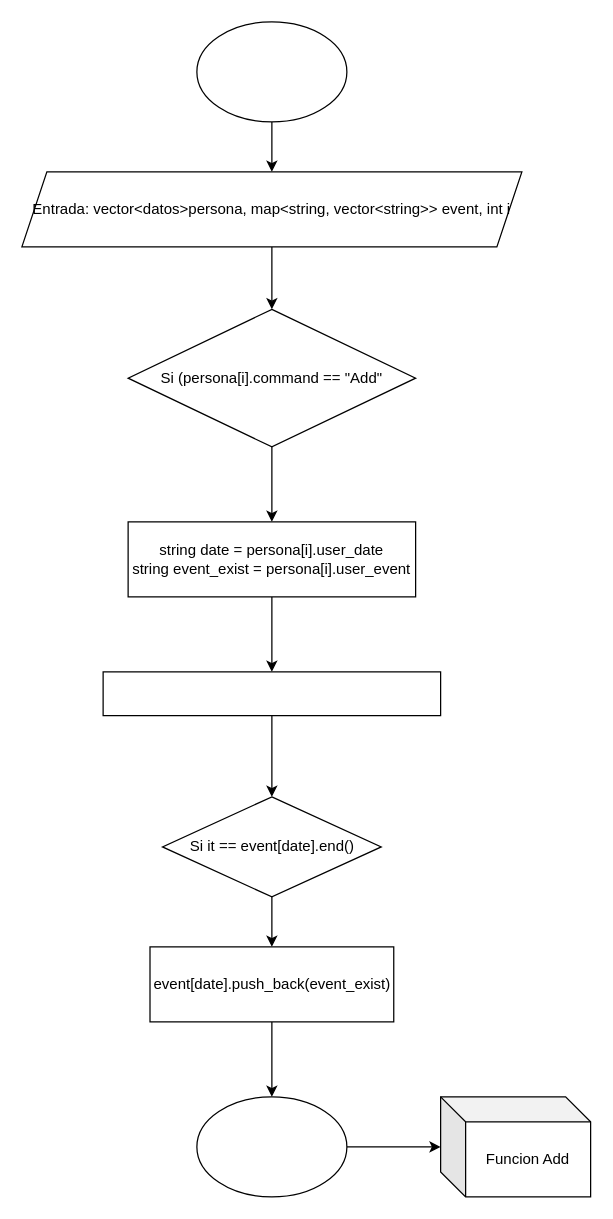
The diagram is 613 pixels wide and 1219 high, and some of its shapes have lost their labels. The box of each missing label's shape, as (x1, y1, x2, y2) in pixels:
auto it = find(event[date].begin(), even[dateo],end(), event_exist): (102, 671, 441, 716)
INICIO: (196, 21, 347, 122)
RETURN: (196, 1096, 347, 1197)
